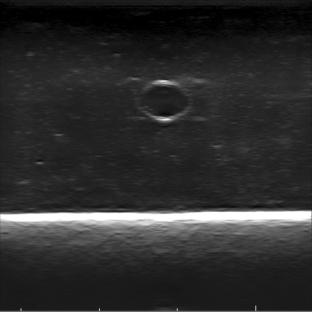vessel: (137, 78, 190, 122)
